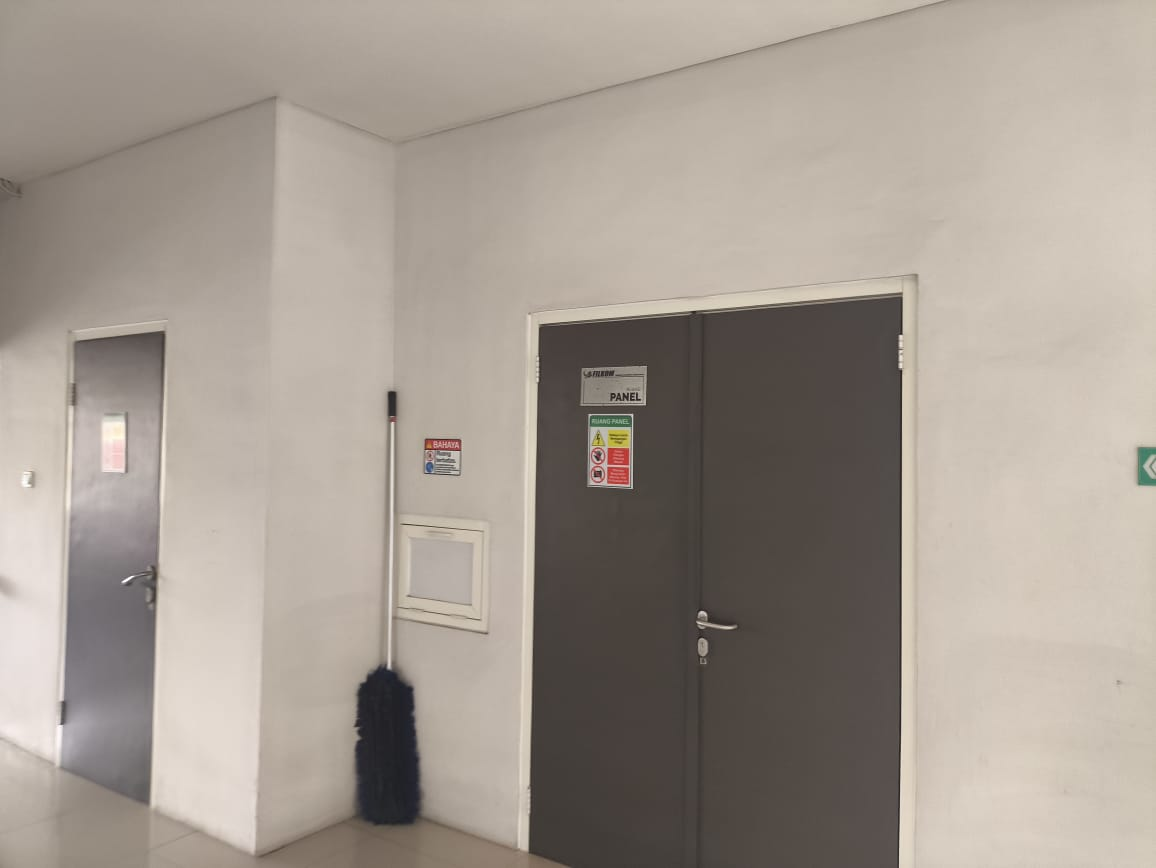ruang panel: (567, 358, 661, 416)
